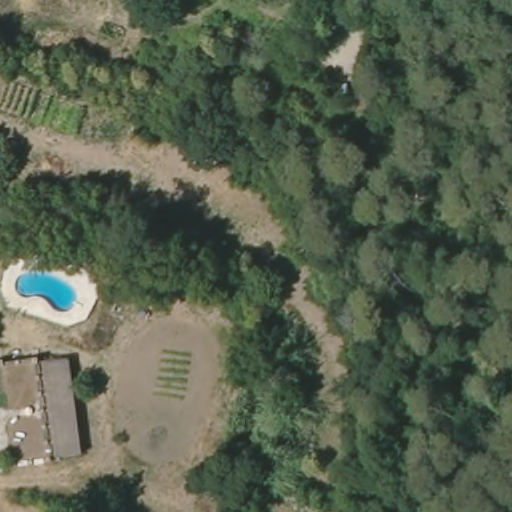pool: (14, 268, 86, 315)
